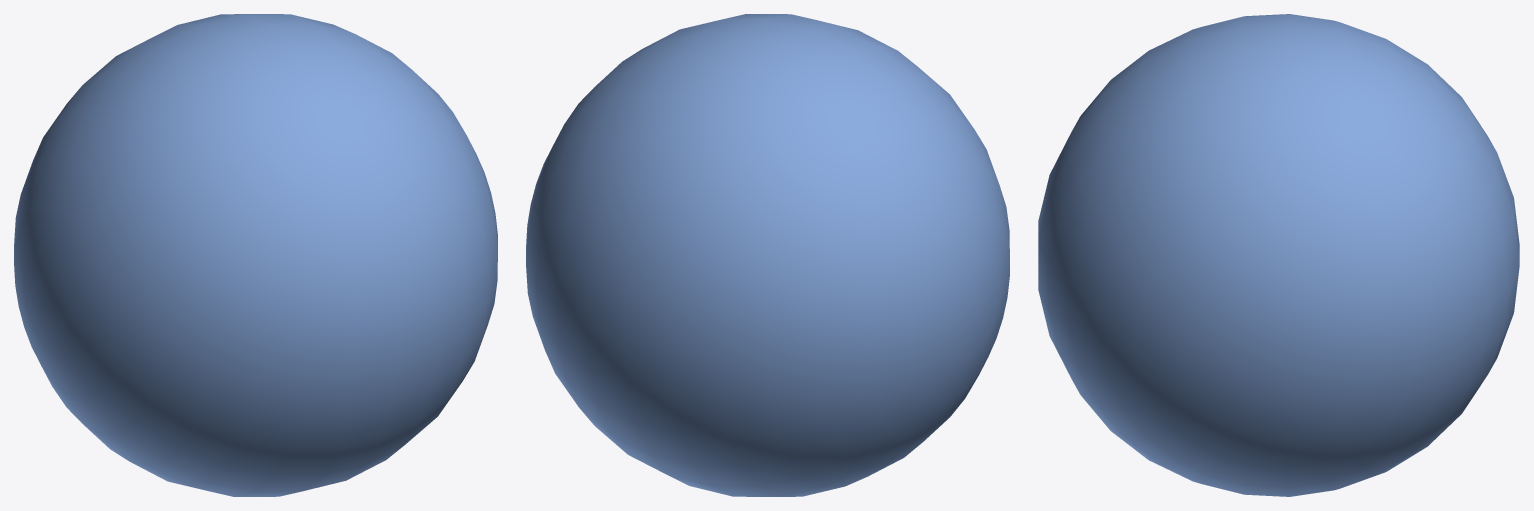
File: _60355K291_Steel_Ball_Bearing_1.gltf
3 views of the same model, side by side, from view 1: azimuth 30°, elevation 25°; view 2: azimuth 150°, elevation 25°; view 3: azimuth 270°, elevation 25° (orthographic).
Visible parts, largest first — view 1: mesh51660; view 2: mesh51660; view 3: mesh51660.
Part boxes in pixels (x1=…): mesh51660: x1=14, y1=14, x2=497, y2=496; mesh51660: x1=526, y1=14, x2=1009, y2=496; mesh51660: x1=1038, y1=14, x2=1519, y2=496.
Size of the model in its own units: 0.00476 by 0.00473 by 0.00472.
